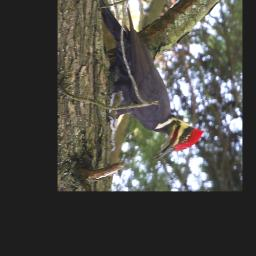Woodpecker: (97, 0, 206, 160)
